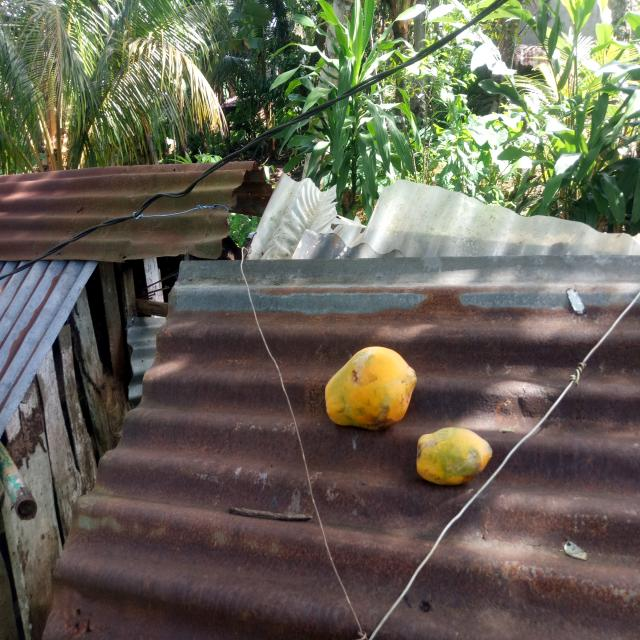Pepaya rippen: (318, 342, 424, 445), (412, 428, 496, 492)
